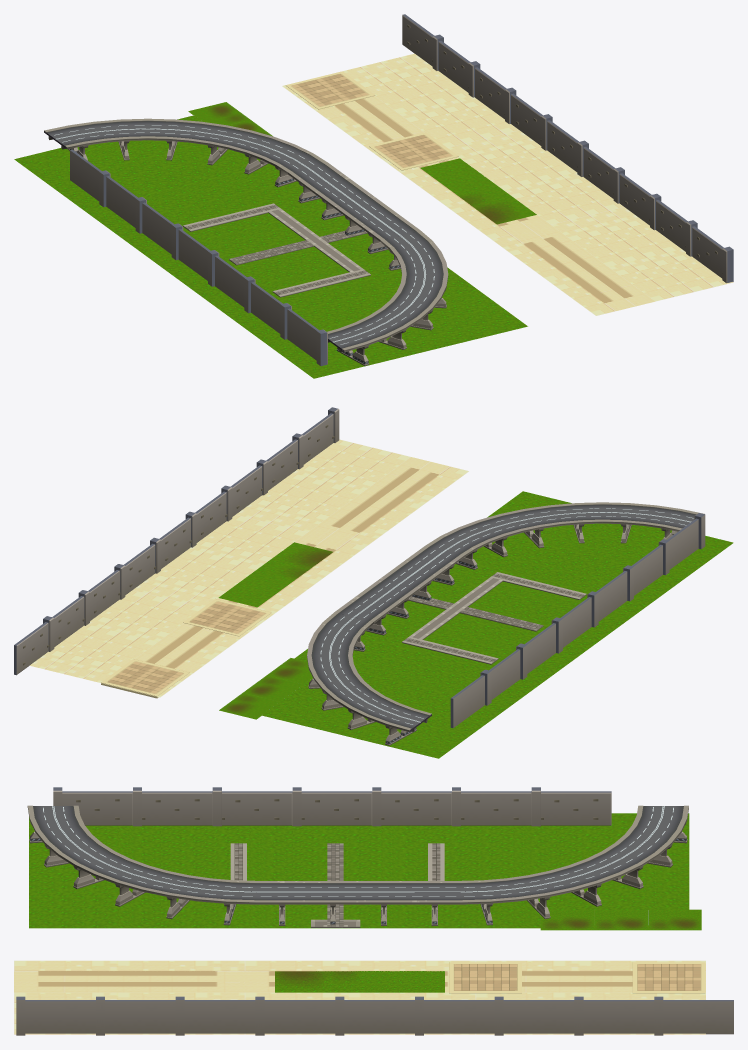
The model's file is Level_03_road_side.fbx.
3 views of the same model, one above another, from view 1: azimuth 30°, elevation 25°; view 2: azimuth 150°, elevation 25°; view 3: azimuth 270°, elevation 25° (orthographic). The views are drawn at different scales.
Parts seen in each view (by area): view 1: Ground.001, Plane.024, Highway_1F.001, wall.003, Plane.025, wall.004, Plane.026, Highway_1A.001, floor, floor.004, Pavement_1E_4x4.002, Plane.027 (+3 smaller); view 2: Ground.001, Plane.024, Highway_1F.001, wall.003, Plane.025, wall.004, Plane.026, Highway_1A.001, Plane.027, floor, floor.004, Pavement_1E_4x4.002 (+3 smaller); view 3: Ground.001, wall.003, wall.004, Highway_1F.001, Plane.025, Plane.026, Plane.024, Highway_1A.001, Plane.027, floor, floor.004, Pavement_1N_4x4.004 (+2 smaller).
Part boxes in pixels (bbox=[...]): Ground.001: bbox=[14, 115, 527, 378]; Plane.024: bbox=[343, 53, 733, 301]; Highway_1F.001: bbox=[44, 118, 448, 365]; wall.003: bbox=[402, 14, 733, 283]; Plane.025: bbox=[335, 96, 655, 311]; wall.004: bbox=[70, 149, 327, 366]; Plane.026: bbox=[282, 85, 614, 315]; Highway_1A.001: bbox=[288, 162, 419, 253]; floor: bbox=[285, 71, 375, 109]; floor.004: bbox=[369, 132, 458, 170]; Pavement_1E_4x4.002: bbox=[268, 209, 362, 272]; Plane.027: bbox=[188, 102, 272, 161]; Ground.001: bbox=[262, 491, 733, 758]; Plane.024: bbox=[30, 439, 410, 683]; Highway_1F.001: bbox=[307, 502, 704, 745]; wall.003: bbox=[14, 407, 339, 675]; Plane.025: bbox=[102, 457, 449, 692]; wall.004: bbox=[450, 513, 705, 728]; Plane.026: bbox=[142, 466, 468, 697]; Highway_1A.001: bbox=[335, 545, 464, 635]; Plane.027: bbox=[219, 658, 312, 719]; floor: bbox=[101, 659, 189, 698]; floor.004: bbox=[183, 598, 271, 636]; Pavement_1E_4x4.002: bbox=[409, 577, 502, 639]; Ground.001: bbox=[29, 813, 689, 928]; wall.003: bbox=[16, 996, 733, 1035]; wall.004: bbox=[53, 787, 611, 826]; Highway_1F.001: bbox=[27, 805, 688, 925]; Plane.025: bbox=[14, 971, 705, 992]; Plane.026: bbox=[14, 960, 705, 971]; Plane.024: bbox=[14, 992, 705, 1034]; Highway_1A.001: bbox=[256, 881, 460, 925]; Plane.027: bbox=[540, 909, 701, 930]; floor: bbox=[632, 962, 705, 993]; floor.004: bbox=[449, 962, 521, 993]; Pavement_1N_4x4.004: bbox=[327, 843, 343, 880].
Size of the model in its own units: 3894 by 305 by 5326.
